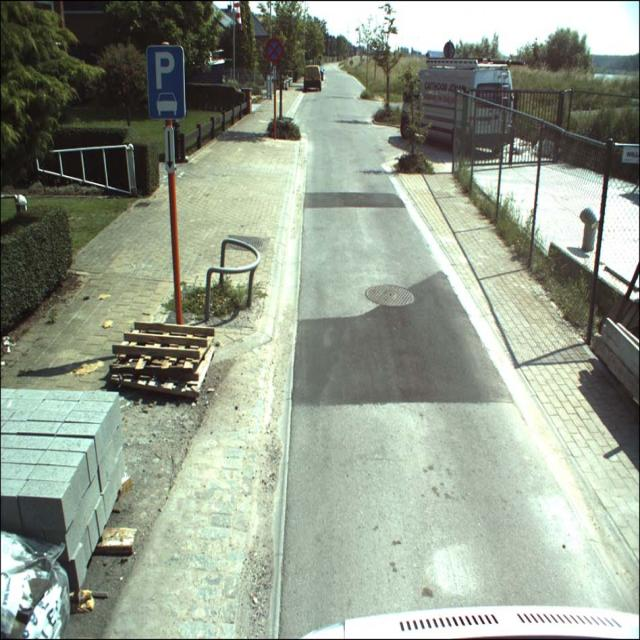park: (145, 46, 186, 118)
